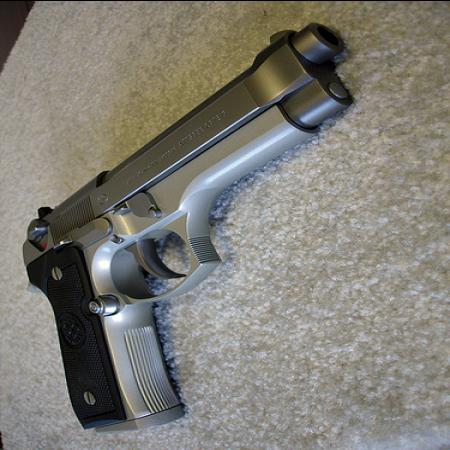Pistol: (20, 23, 356, 428)
